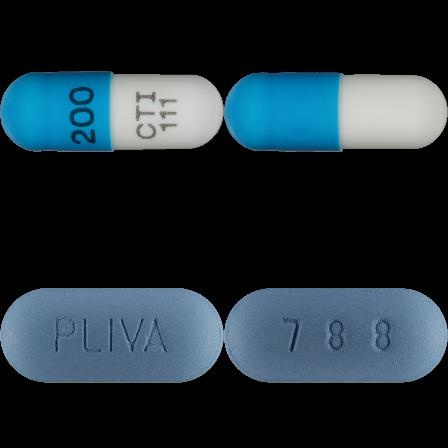63187-182: (0, 0, 224, 224)
